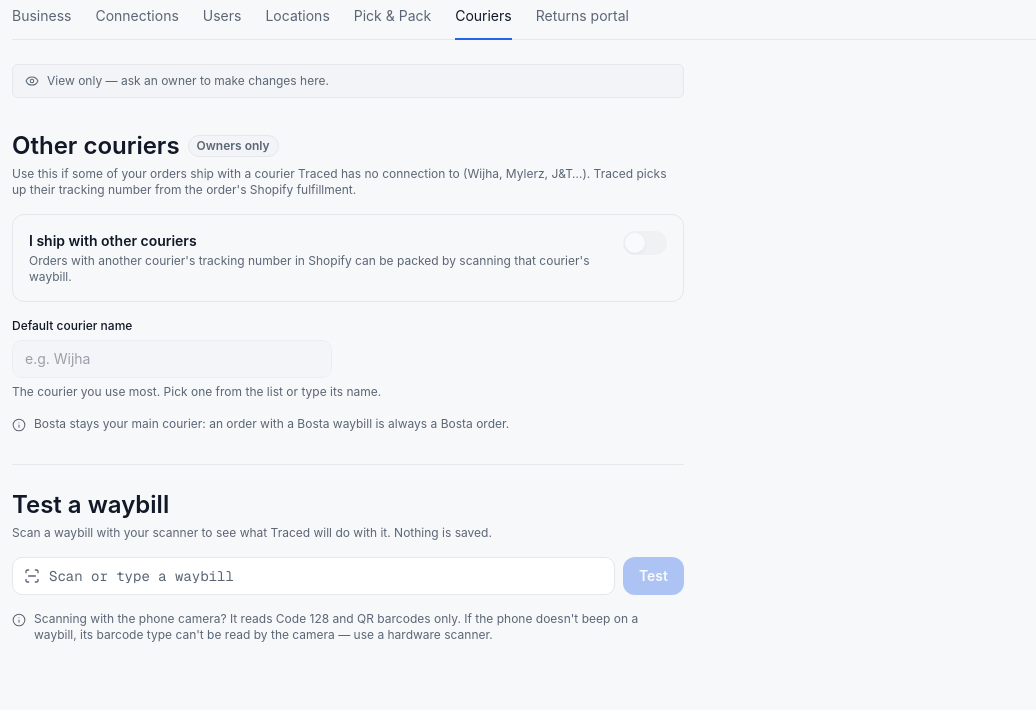
Settings › Couriers › manager: read-only switch and carrier, no Save — but can test a waybill
The width and height of the screenshot is (1036, 710).
Expected: the element with test id "couriers-settings" is shown, [12,64,684,643]
Expected: the text "View only — ask an owner to make changes here." is shown, [12,64,684,98]
Type "wj-12345" into the field with test id "test-waybill-input".
click(313, 576); type("wj-12345")  # box [12,557,615,595]
Then press Enter
(page scrolled)
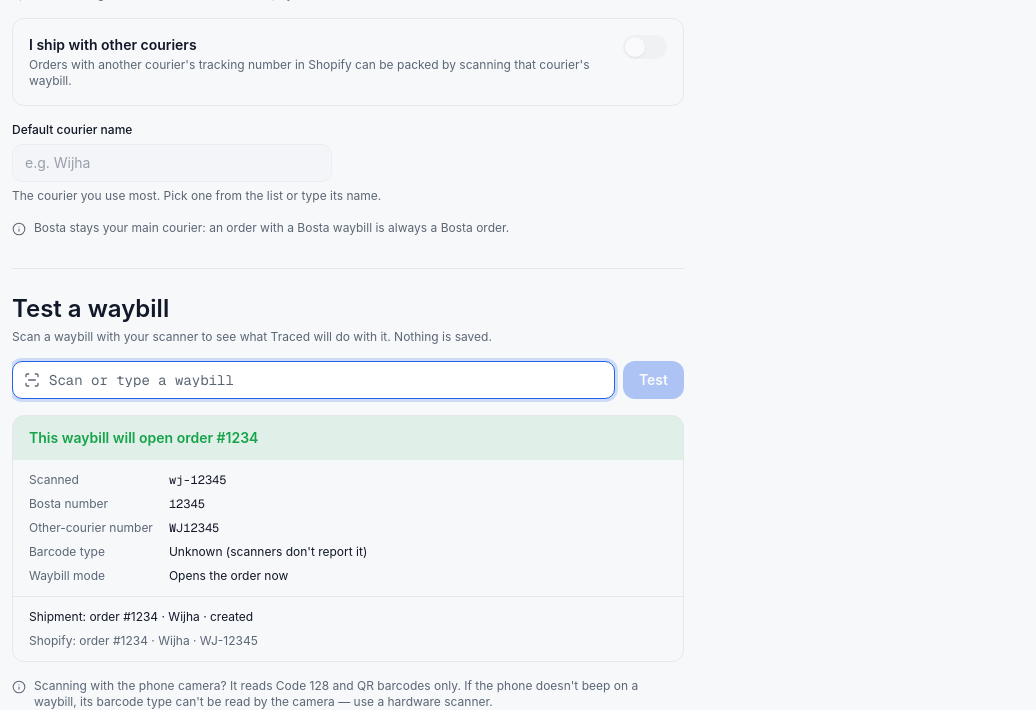
Expected: the text with test id "test-waybill-verdict" reads "This waybill will open order #1234", [29,429,258,446]
Expected: the text "WJ12345" is shown, [169,520,219,536]
Expected: the text "Unknown (scanners don't report it)" is shown, [169,544,367,559]
